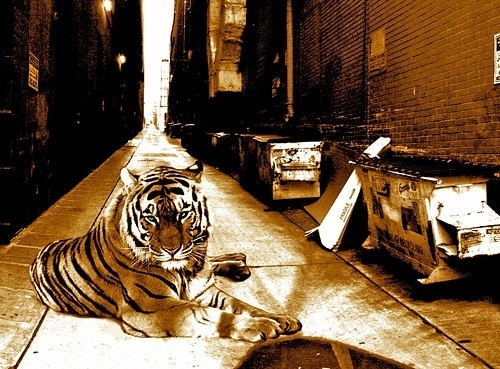tigre: (26, 160, 304, 341)
